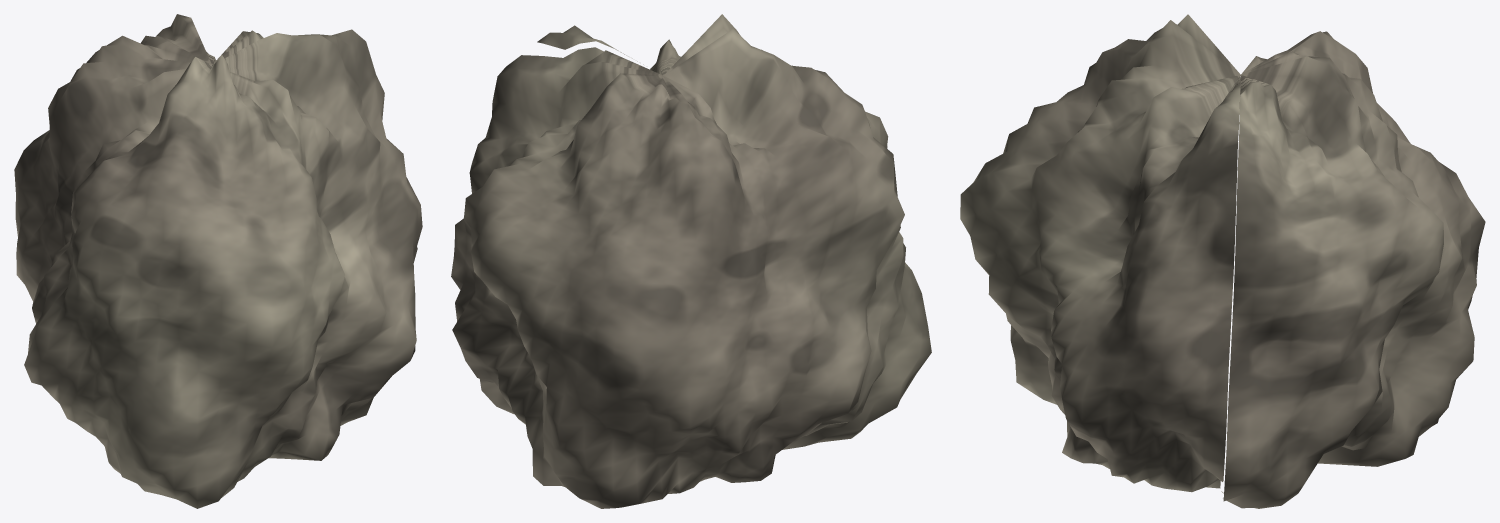
Rendered from reef_rock_v2_b.glb.
The picture shows the model from 3 angles, left to right: view 1: azimuth 30°, elevation 25°; view 2: azimuth 150°, elevation 25°; view 3: azimuth 270°, elevation 25°; orthographic projection. The views are drawn at different scales.
Parts seen in each view (by area): view 1: world; view 2: world; view 3: world.
Part boxes in pixels (x1=…): world: x1=14, y1=14, x2=422, y2=508; world: x1=451, y1=14, x2=931, y2=508; world: x1=960, y1=14, x2=1485, y2=508.
Size of the model in its own units: 1.92 by 1.93 by 2.26.
Materials: 1 (1 with a texture image).
